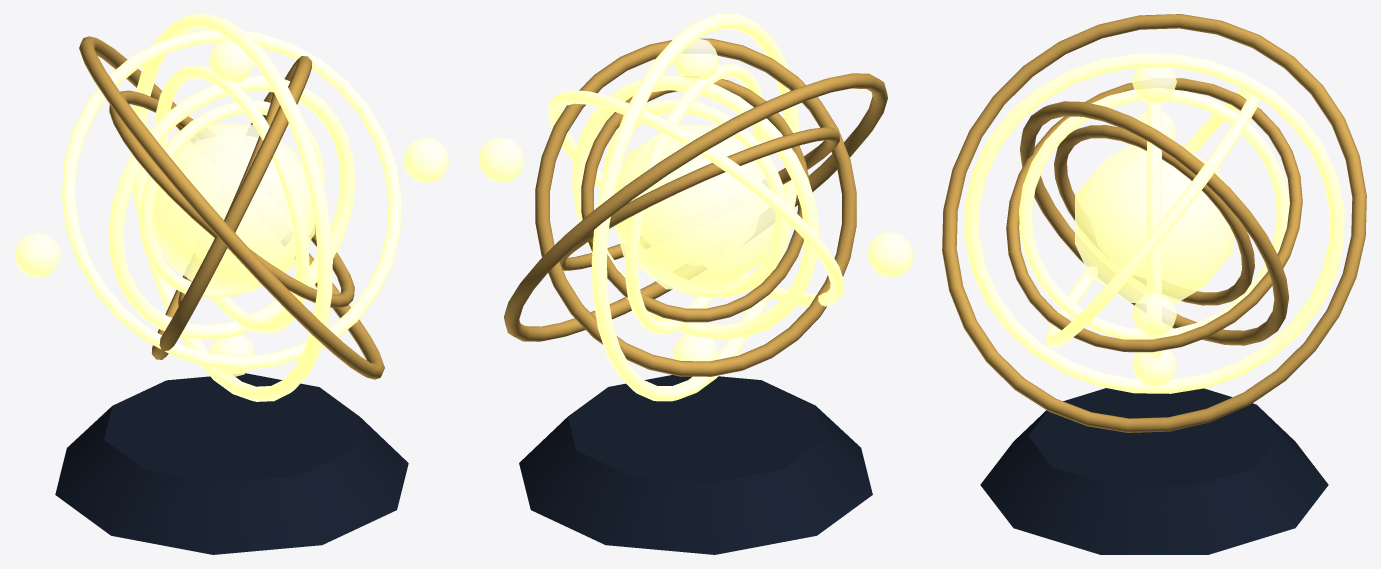
Rendered from euler.glb.
3 views of the same model, side by side, from view 1: azimuth 30°, elevation 25°; view 2: azimuth 150°, elevation 25°; view 3: azimuth 270°, elevation 25° (orthographic). The views are drawn at different scales.
Parts seen in each view (by area): view 1: body, identity-euler; view 2: body, identity-euler; view 3: body, identity-euler.
Part boxes in pixels (x1,y1,x2,y2): body: (14,14,449,554); identity-euler: (62,30,401,369); body: (478,14,913,554); identity-euler: (548,64,843,334); body: (942,14,1366,554); identity-euler: (1006,78,1302,352).
Size of the model in its own units: 1.59 by 1.59 by 1.41.
